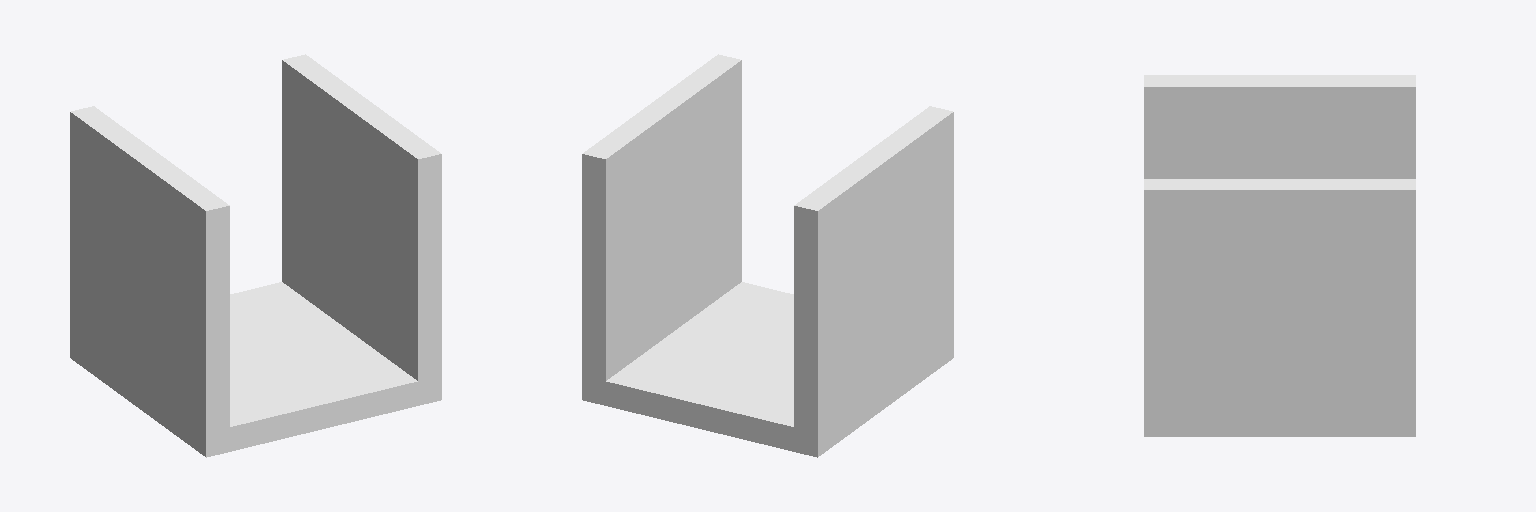
3 views of the same model, side by side, from view 1: azimuth 30°, elevation 25°; view 2: azimuth 150°, elevation 25°; view 3: azimuth 270°, elevation 25° (orthographic).
Visible parts, largest first — view 1: BT; view 2: BT; view 3: BT.
Boxes of the visible parts, <box> form: BT: <box>70,54,441,457</box>; BT: <box>582,54,953,457</box>; BT: <box>1144,75,1415,436</box>.
Size of the model in its own units: 10 by 10 by 10.